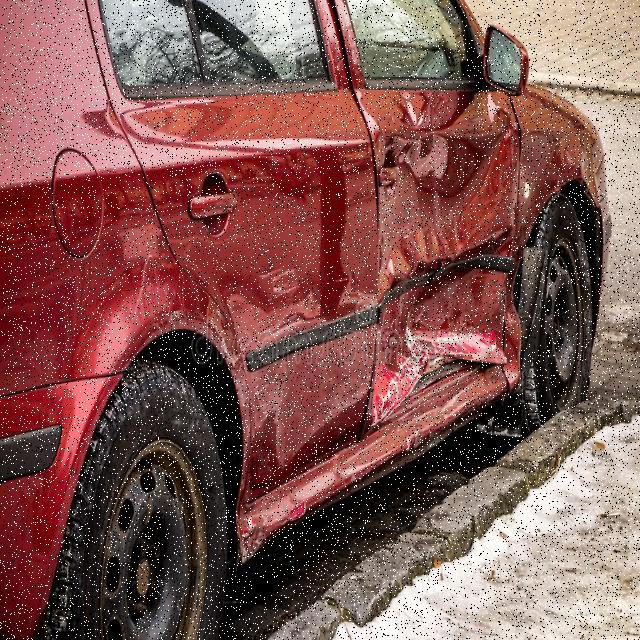RunningBoard-Dent: (238, 451, 353, 554), (372, 410, 473, 481)
doorouter-dent: (118, 94, 366, 450), (372, 91, 517, 395)
fender-dent: (519, 101, 594, 254)
